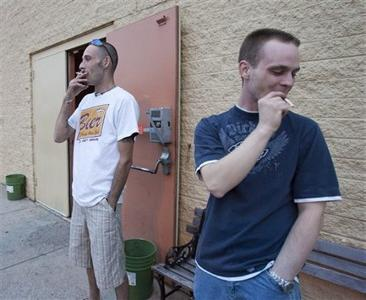person: (190, 29, 341, 300)
